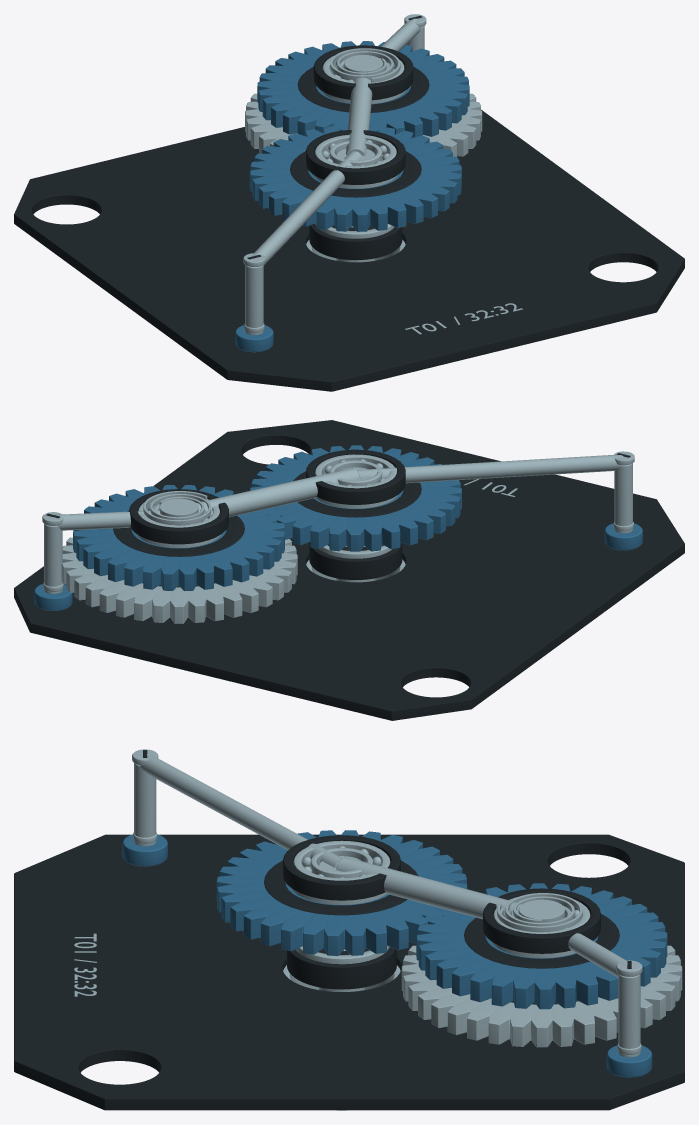
3 views of the same model, one above another, from view 1: azimuth 30°, elevation 25°; view 2: azimuth 150°, elevation 25°; view 3: azimuth 270°, elevation 25° (orthographic). The views are drawn at different scales.
Parts seen in each view (by area): view 1: Export_T01_tray__Launcher_Graphite_POM__fixed_carrier, Export_T01_output_rotor__Performance_Blue_Anodized__output_g, Export_T01_input_rotor__Performance_Blue_Anodized__input_gea, Export_T01_bearing_bridge__Launcher_Brushed_Steel__bearing_w, Export_T01_bearing_bridge__Launcher_Graphite_POM__bearing_wo, Export_T01_input_rotor__Launcher_Brushed_Steel__input_gear_w, Export_T01_output_rotor__Launcher_Graphite_POM__output_gear_, Export_T01_input_rotor__Launcher_Graphite_POM__input_gear_wo, Export_T01_tray__Launcher_Brushed_Steel__fixed_carrier, Export_T01_return_spring__Launcher_Brushed_Steel__return_spr, Export_T01_tray__Performance_Blue_Anodized__fixed_carrier; view 2: Export_T01_tray__Launcher_Graphite_POM__fixed_carrier, Export_T01_bearing_bridge__Launcher_Brushed_Steel__bearing_w, Export_T01_input_rotor__Performance_Blue_Anodized__input_gea, Export_T01_input_rotor__Launcher_Brushed_Steel__input_gear_w, Export_T01_output_rotor__Performance_Blue_Anodized__output_g, Export_T01_bearing_bridge__Launcher_Graphite_POM__bearing_wo, Export_T01_input_rotor__Launcher_Graphite_POM__input_gear_wo, Export_T01_tray__Performance_Blue_Anodized__fixed_carrier, Export_T01_output_rotor__Launcher_Graphite_POM__output_gear_, Export_T01_return_spring__Launcher_Brushed_Steel__return_spr, Export_T01_tray__Launcher_Brushed_Steel__fixed_carrier, Export_T01_output_rotor__Launcher_Brushed_Steel__output_gear; view 3: Export_T01_tray__Launcher_Graphite_POM__fixed_carrier, Export_T01_bearing_bridge__Launcher_Brushed_Steel__bearing_w, Export_T01_input_rotor__Performance_Blue_Anodized__input_gea, Export_T01_output_rotor__Performance_Blue_Anodized__output_g, Export_T01_input_rotor__Launcher_Brushed_Steel__input_gear_w, Export_T01_bearing_bridge__Launcher_Graphite_POM__bearing_wo, Export_T01_input_rotor__Launcher_Graphite_POM__input_gear_wo, Export_T01_tray__Performance_Blue_Anodized__fixed_carrier, Export_T01_output_rotor__Launcher_Graphite_POM__output_gear_, Export_T01_tray__Launcher_Brushed_Steel__fixed_carrier, Export_T01_return_spring__Launcher_Brushed_Steel__return_spr, Export_T01_output_rotor__Launcher_Brushed_Steel__output_gear.
Boxes of the visible parts, x1=… form: Export_T01_tray__Launcher_Graphite_POM__fixed_carrier: x1=14, y1=109, x2=684, y2=391; Export_T01_output_rotor__Performance_Blue_Anodized__output_g: x1=249, y1=125, x2=461, y2=231; Export_T01_input_rotor__Performance_Blue_Anodized__input_gea: x1=257, y1=41, x2=469, y2=137; Export_T01_bearing_bridge__Launcher_Brushed_Steel__bearing_w: x1=243, y1=14, x2=426, y2=334; Export_T01_bearing_bridge__Launcher_Graphite_POM__bearing_wo: x1=247, y1=15, x2=422, y2=259; Export_T01_input_rotor__Launcher_Brushed_Steel__input_gear_w: x1=245, y1=55, x2=482, y2=156; Export_T01_output_rotor__Launcher_Graphite_POM__output_gear_: x1=290, y1=151, x2=421, y2=197; Export_T01_input_rotor__Launcher_Graphite_POM__input_gear_wo: x1=297, y1=66, x2=429, y2=112; Export_T01_tray__Launcher_Brushed_Steel__fixed_carrier: x1=244, y1=223, x2=522, y2=334; Export_T01_return_spring__Launcher_Brushed_Steel__return_spr: x1=330, y1=48, x2=400, y2=82; Export_T01_tray__Performance_Blue_Anodized__fixed_carrier: x1=235, y1=325, x2=273, y2=352; Export_T01_tray__Launcher_Graphite_POM__fixed_carrier: x1=14, y1=420, x2=684, y2=720; Export_T01_bearing_bridge__Launcher_Brushed_Steel__bearing_w: x1=42, y1=451, x2=634, y2=593; Export_T01_input_rotor__Performance_Blue_Anodized__input_gea: x1=73, y1=485, x2=284, y2=591; Export_T01_input_rotor__Launcher_Brushed_Steel__input_gear_w: x1=61, y1=498, x2=297, y2=623; Export_T01_output_rotor__Performance_Blue_Anodized__output_g: x1=250, y1=445, x2=461, y2=551; Export_T01_bearing_bridge__Launcher_Graphite_POM__bearing_wo: x1=46, y1=449, x2=630, y2=544; Export_T01_input_rotor__Launcher_Graphite_POM__input_gear_wo: x1=113, y1=510, x2=244, y2=587; Export_T01_tray__Performance_Blue_Anodized__fixed_carrier: x1=34, y1=523, x2=642, y2=610; Export_T01_output_rotor__Launcher_Graphite_POM__output_gear_: x1=293, y1=471, x2=421, y2=517; Export_T01_return_spring__Launcher_Brushed_Steel__return_spr: x1=143, y1=491, x2=211, y2=525; Export_T01_tray__Launcher_Brushed_Steel__fixed_carrier: x1=43, y1=479, x2=633, y2=592; Export_T01_output_rotor__Launcher_Brushed_Steel__output_gear: x1=316, y1=467, x2=398, y2=582; Export_T01_tray__Launcher_Graphite_POM__fixed_carrier: x1=14, y1=834, x2=684, y2=1110; Export_T01_bearing_bridge__Launcher_Brushed_Steel__bearing_w: x1=132, y1=749, x2=642, y2=1057; Export_T01_input_rotor__Performance_Blue_Anodized__input_gea: x1=416, y1=883, x2=667, y2=1009; Export_T01_output_rotor__Performance_Blue_Anodized__output_g: x1=216, y1=830, x2=467, y2=955; Export_T01_input_rotor__Launcher_Brushed_Steel__input_gear_w: x1=401, y1=899, x2=682, y2=1047; Export_T01_bearing_bridge__Launcher_Graphite_POM__bearing_wo: x1=143, y1=750, x2=631, y2=968; Export_T01_input_rotor__Launcher_Graphite_POM__input_gear_wo: x1=464, y1=914, x2=619, y2=1004; Export_T01_tray__Performance_Blue_Anodized__fixed_carrier: x1=122, y1=834, x2=652, y2=1077; Export_T01_output_rotor__Launcher_Graphite_POM__output_gear_: x1=264, y1=860, x2=418, y2=915; Export_T01_tray__Launcher_Brushed_Steel__fixed_carrier: x1=74, y1=832, x2=641, y2=1110; Export_T01_return_spring__Launcher_Brushed_Steel__return_spr: x1=497, y1=893, x2=582, y2=932; Export_T01_output_rotor__Launcher_Brushed_Steel__output_gear: x1=291, y1=856, x2=386, y2=991.
Size of the model in its own units: 1.24 by 0.5065 by 1.33.
